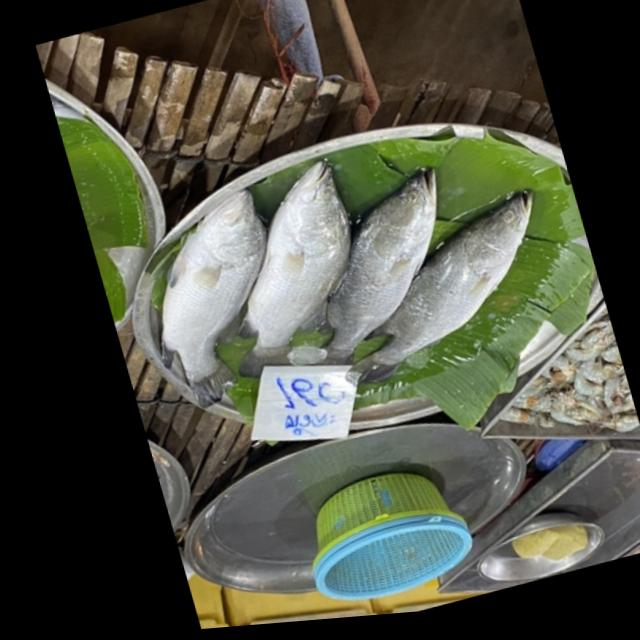Seabass: (314, 184, 575, 389), (181, 153, 389, 385), (269, 161, 484, 373), (120, 184, 311, 413)
